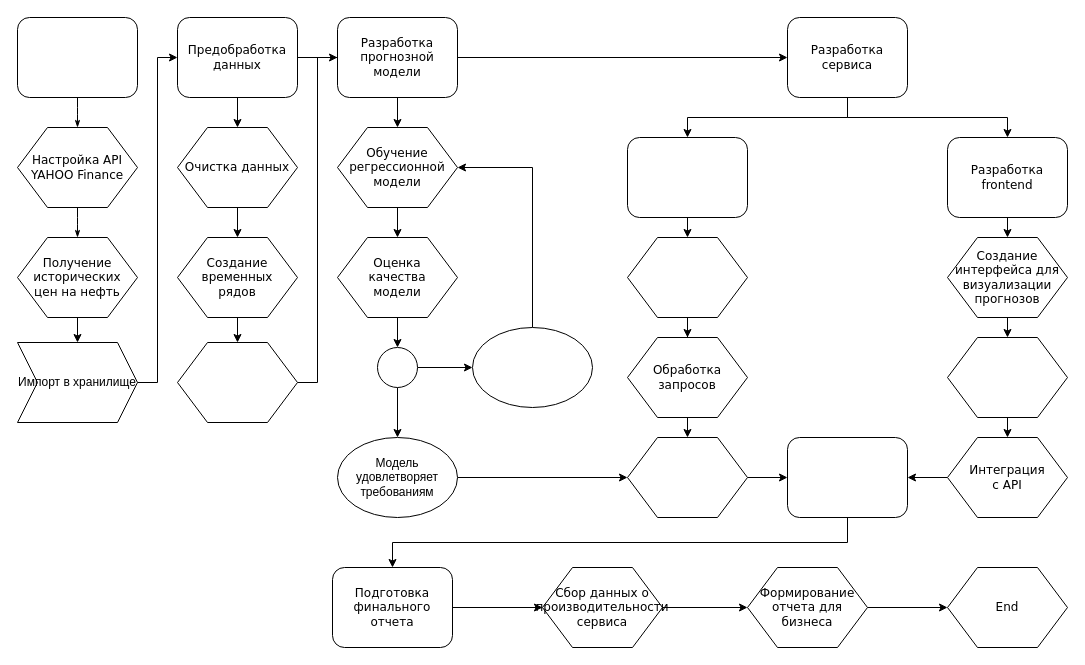
Image size: 1085x665. Some labels were removed from this diagram. Here are the shapes that lost their labels. From the top down, the centre of each, then its label:
pixel 77 57: Получение данных
pixel 687 177: Разработка backend
pixel 687 277: Создание API-ручки
pixel 237 382: Разделение на обучающий и тестовый наборы
pixel 397 367: OR
pixel 532 367: Модель не удовлетворяет требованиям
pixel 1007 377: Реализация выбора временного интервала
pixel 687 477: Интеграция backend с прогнозной моделью
pixel 847 477: Сервис
